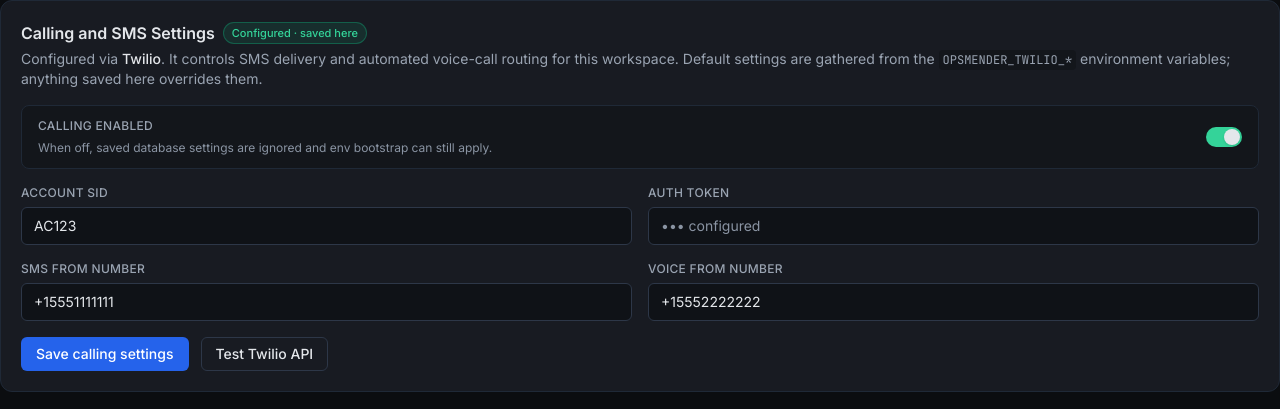
it: VoiceSettingsSection › masks the token and preserves it when saving without a replacement
Check: the field labelled "Account SID" holds "AC123", box [21,207,632,245]
Replace the text in the field labelled "SMS from number" with "+15553333333" at (326, 302), box [21,283,632,321]
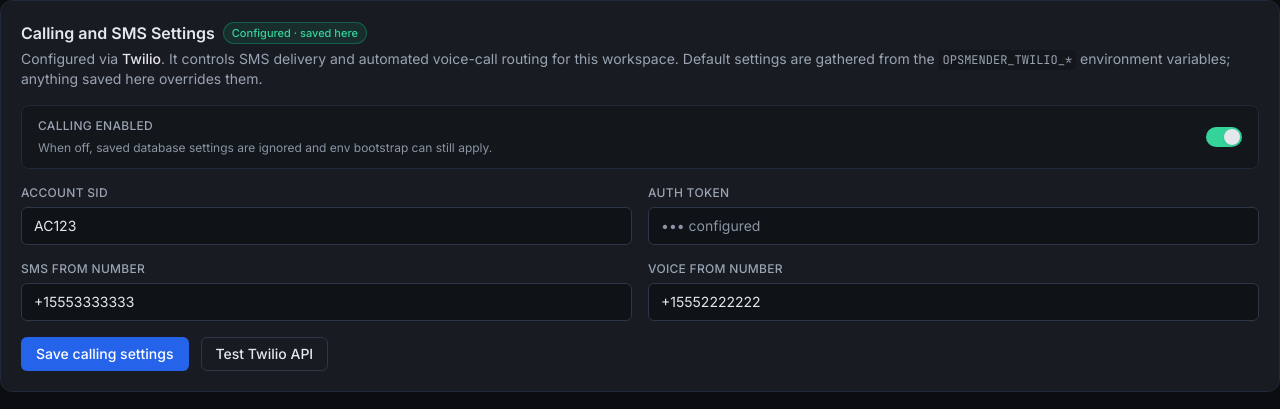
Click the button "Save calling settings" at (105, 354), box [21,337,188,371]
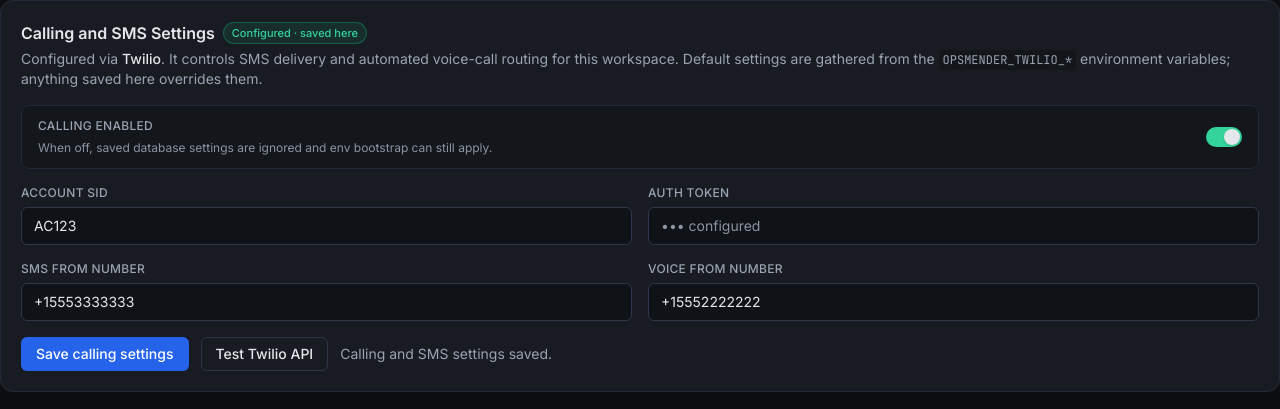
Check: the text "Calling and SMS settings saved." is shown, box [340,344,552,364]
